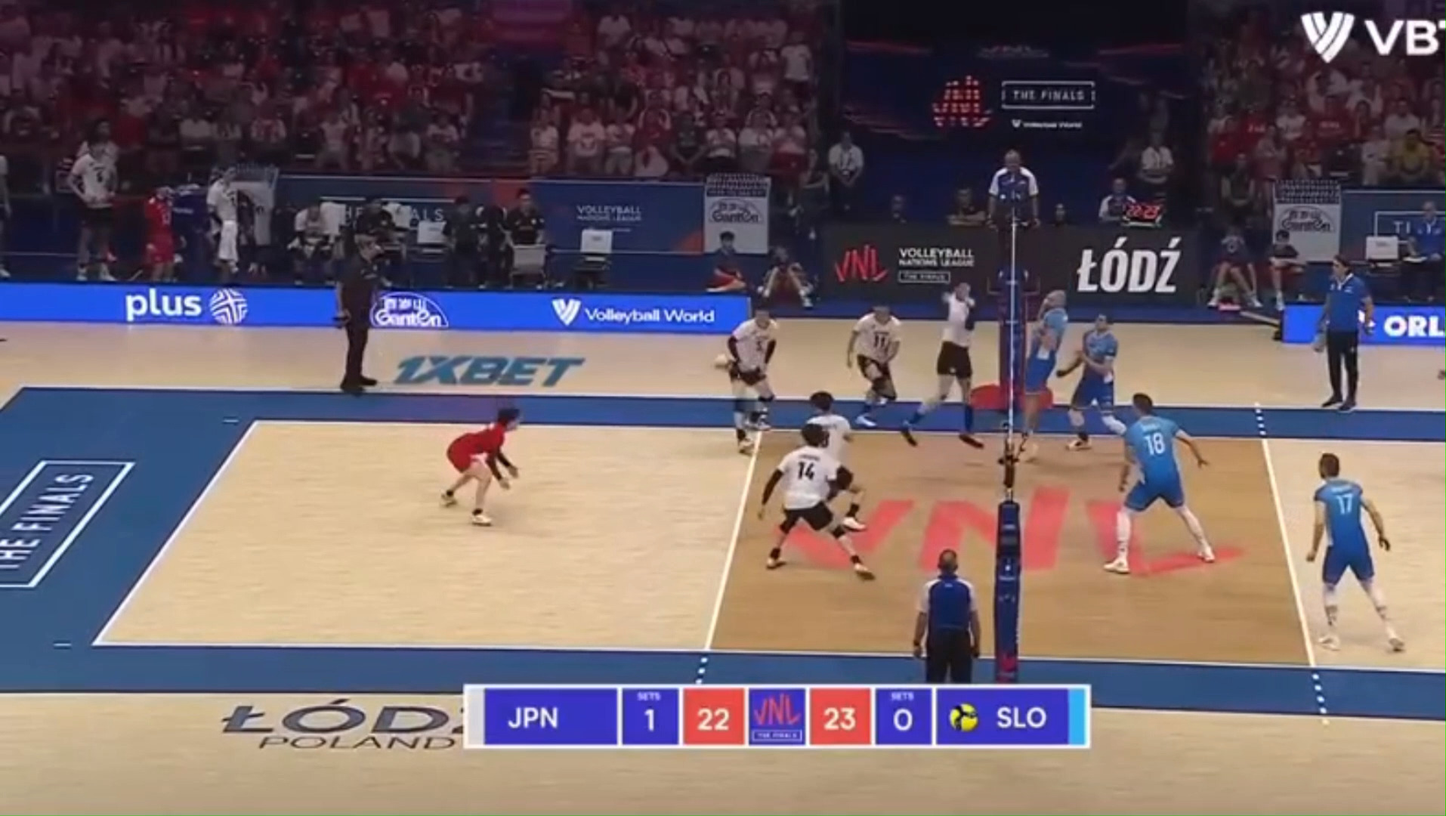ball: (714, 353, 730, 369)
player: (1103, 393, 1215, 574), (1307, 453, 1404, 651), (1013, 290, 1068, 458), (1056, 314, 1118, 450)
player 1: (759, 425, 873, 580), (901, 283, 983, 447), (443, 407, 519, 526), (724, 307, 777, 453), (845, 305, 901, 427), (805, 391, 851, 462), (839, 481, 867, 531)
referee: (913, 549, 979, 683), (1317, 258, 1373, 410), (986, 150, 1040, 294), (336, 230, 382, 394)
